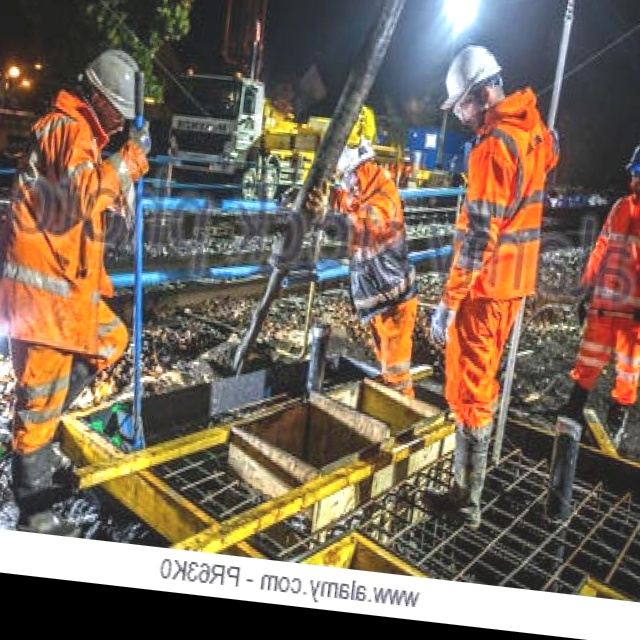Con_Casco: (438, 36, 508, 126)
Con_Chaleco: (0, 112, 124, 341), (448, 123, 561, 306), (583, 184, 640, 325)
